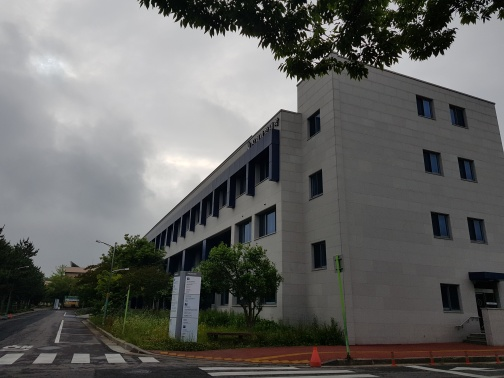College of Social Sciences: (123, 76, 504, 355), (165, 131, 285, 234), (450, 262, 504, 342)
